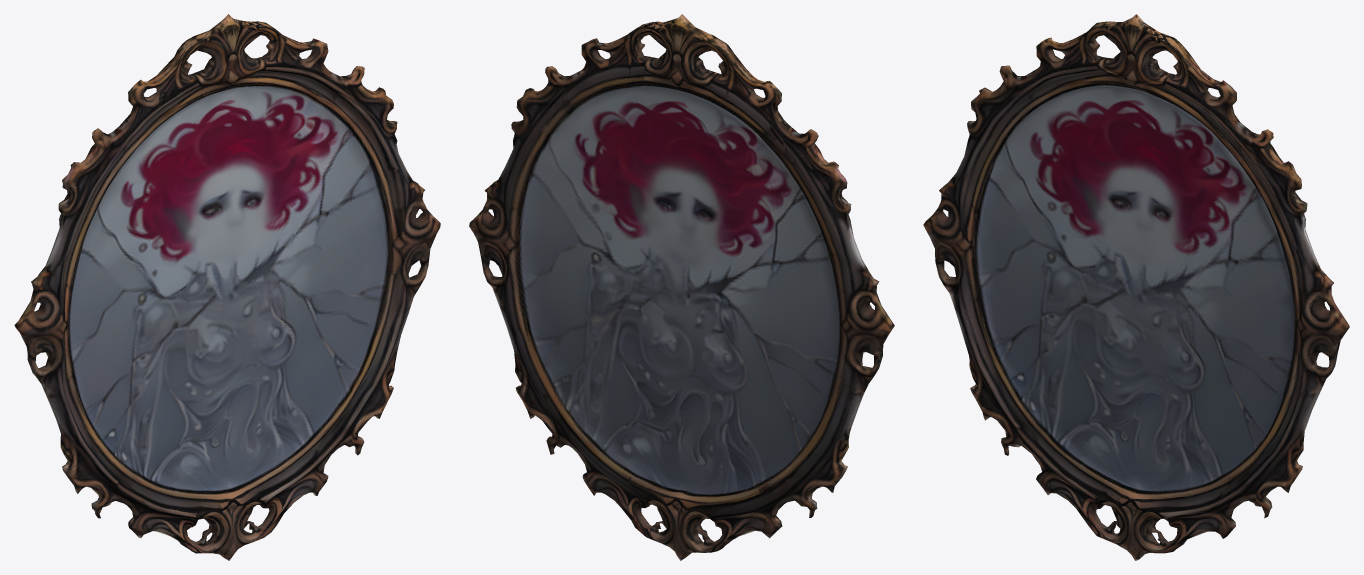
File: Mirror_Witch.glb
3 renders of one model, left to right at view 1: azimuth 30°, elevation 25°; view 2: azimuth 150°, elevation 25°; view 3: azimuth 330°, elevation 25°, orthographic.
Parts seen in each view (by area): view 1: geometry_0; view 2: geometry_0; view 3: geometry_0.
Part boxes in pixels (left/top/right/bottom): geometry_0: left=14, top=14, right=440, bottom=560; geometry_0: left=469, top=14, right=894, bottom=560; geometry_0: left=923, top=14, right=1349, bottom=560.
Size of the model in its own units: 0.7293 by 0.9 by 0.0356.
1 material, 1 textured.
